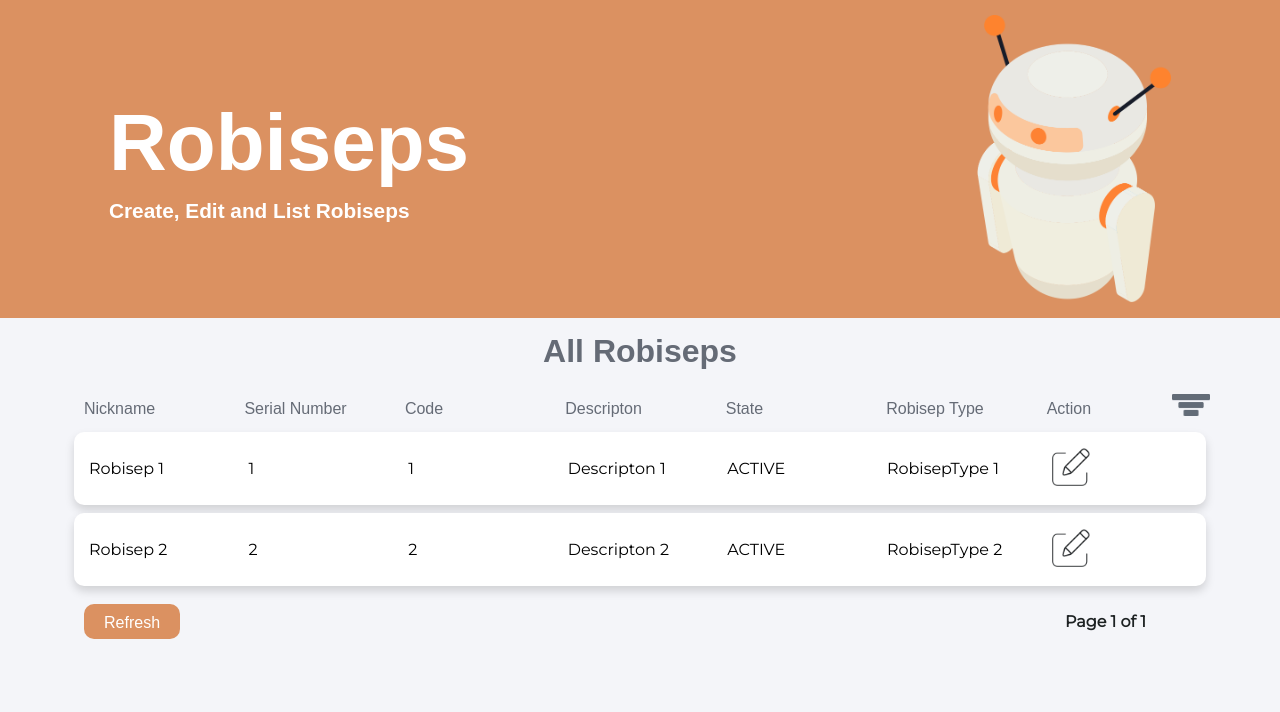
Test case: RobisepPage › Check if Table Filter is rendered
The width and height of the screenshot is (1280, 712).
Click the button titled "Filter Menu" at [1191, 405], box [1166,380,1216,430]
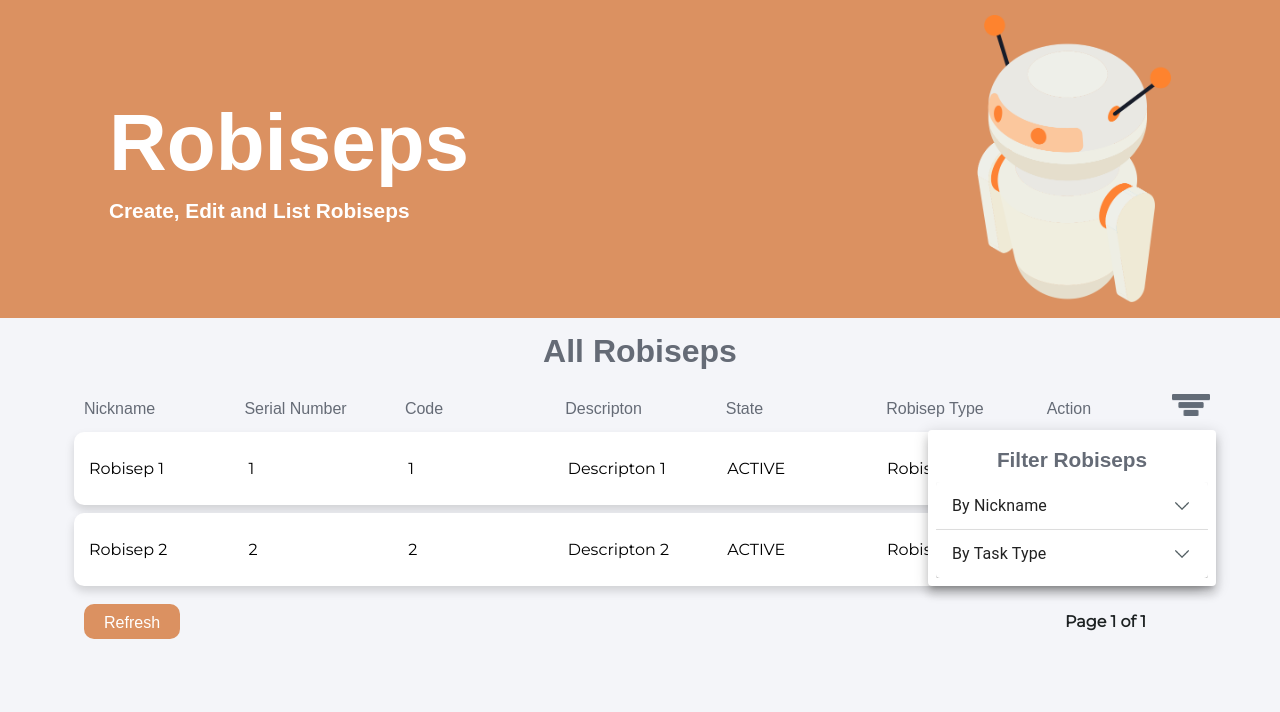
Now the heading "Filter Robiseps" is shown, box [997,448,1147,472]
Now the text "By Nickname" is shown, box [952,494,1047,518]
Now the text "By Task Type" is shown, box [952,542,1046,566]
